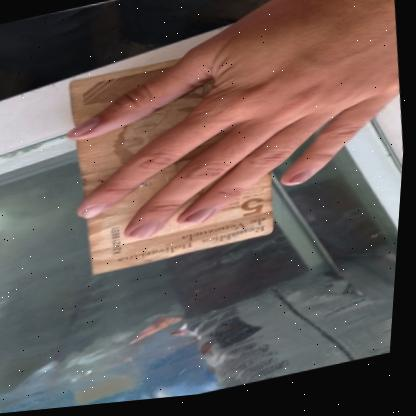five-front-vef: (60, 43, 288, 282)
